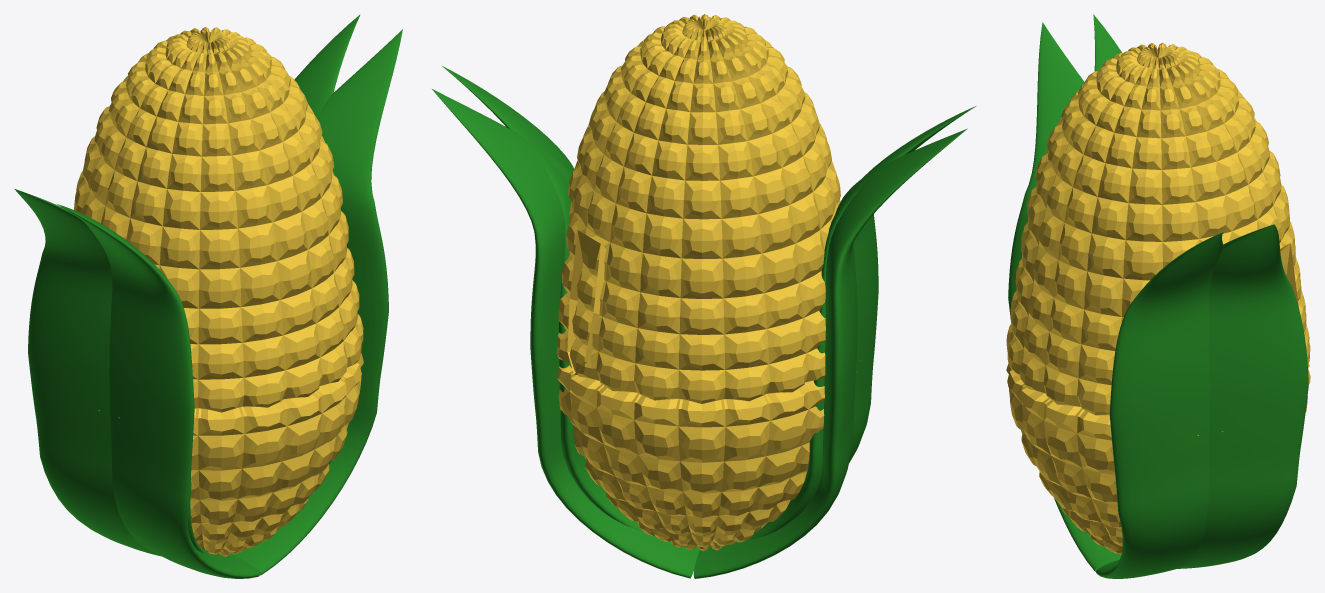
The model's file is Corn.fbx.
3 views of the same model, side by side, from view 1: azimuth 30°, elevation 25°; view 2: azimuth 150°, elevation 25°; view 3: azimuth 270°, elevation 25° (orthographic). The views are drawn at different scales.
Parts seen in each view (by area): view 1: Сфера, КриваяБезье; view 2: Сфера, КриваяБезье; view 3: Сфера, КриваяБезье.
Part boxes in pixels (x1=…): Сфера: x1=74, y1=27, x2=363, y2=556; КриваяБезье: x1=14, y1=14, x2=402, y2=578; Сфера: x1=557, y1=14, x2=860, y2=551; КриваяБезье: x1=432, y1=66, x2=975, y2=578; Сфера: x1=1006, y1=42, x2=1310, y2=554; КриваяБезье: x1=1008, y1=14, x2=1308, y2=578.
Size of the model in its own units: 366 by 403 by 216.
